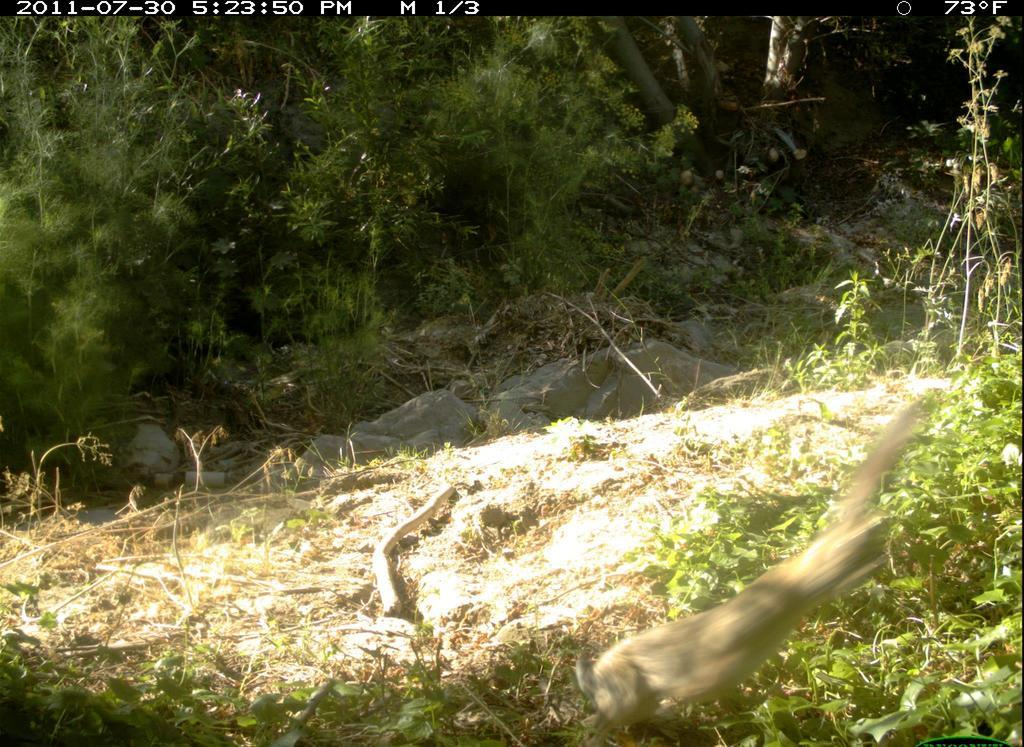rabbit: (538, 392, 936, 747)
